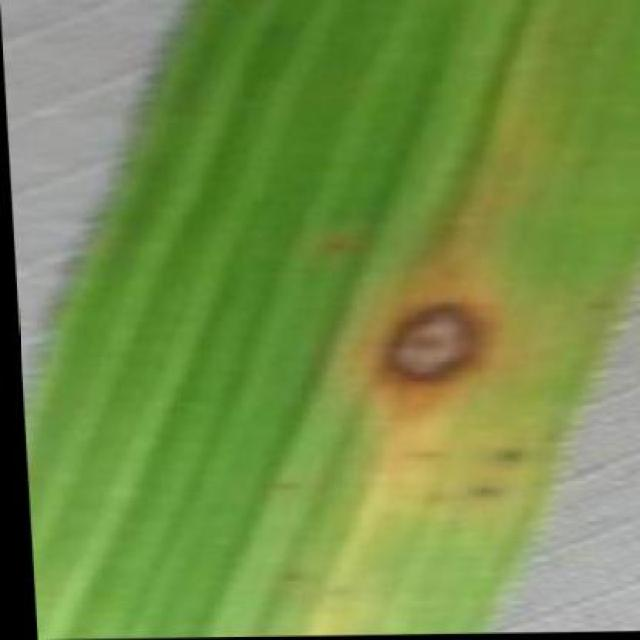Bacterial_Leaf_Blight: (332, 255, 526, 423)
Leaf_Blast: (375, 424, 457, 468), (562, 130, 628, 184), (452, 454, 518, 501), (474, 419, 535, 467), (308, 218, 372, 255), (258, 462, 314, 498), (271, 554, 318, 595), (574, 282, 620, 318)
